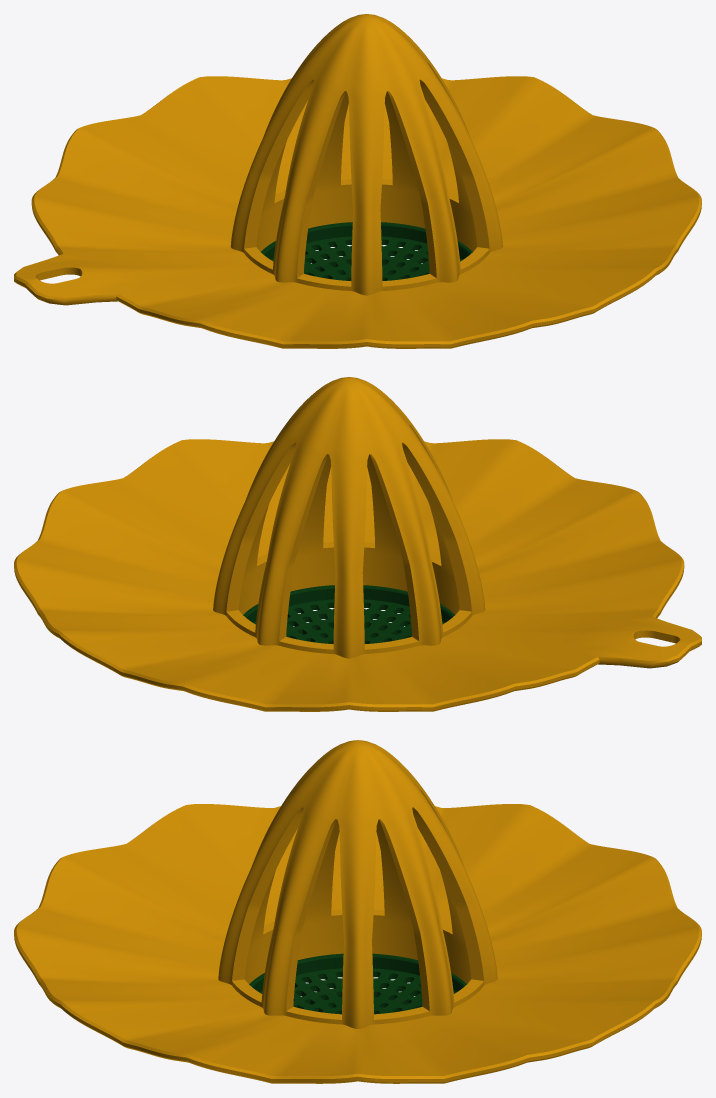
3 views of the same model, one above another, from view 1: azimuth 30°, elevation 25°; view 2: azimuth 150°, elevation 25°; view 3: azimuth 270°, elevation 25° (orthographic). The views are drawn at different scales.
Visible parts, largest first — view 1: part_001_Catch_tray_and_reamer, part_000_Perforated_strainer; view 2: part_001_Catch_tray_and_reamer, part_000_Perforated_strainer; view 3: part_001_Catch_tray_and_reamer, part_000_Perforated_strainer.
Boxes of the visible parts, x1,y1,x2,y2 form: part_001_Catch_tray_and_reamer: (14, 14, 701, 348); part_000_Perforated_strainer: (261, 222, 472, 280); part_001_Catch_tray_and_reamer: (14, 377, 701, 711); part_000_Perforated_strainer: (243, 585, 454, 643); part_001_Catch_tray_and_reamer: (14, 740, 701, 1083); part_000_Perforated_strainer: (249, 953, 466, 1014).
Size of the model in its own units: 0.159 by 0.068 by 0.146.
